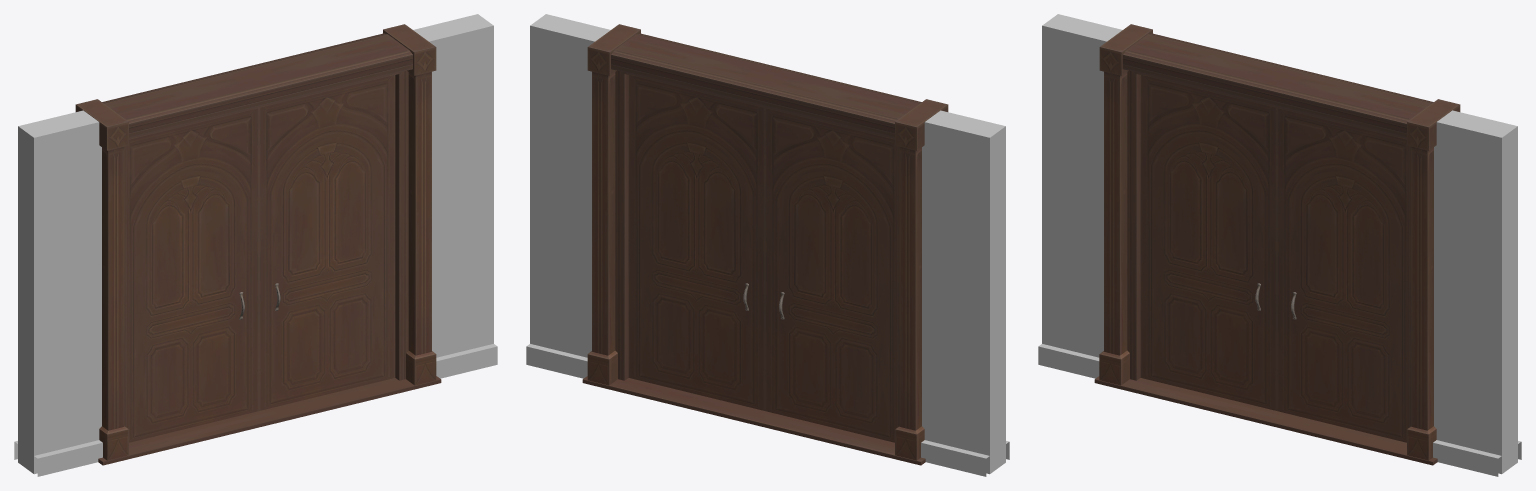
The model's file is Homeworld_Interior_Md_Room_Door_02_Vo.fbx.
3 views of the same model, side by side, from view 1: azimuth 30°, elevation 25°; view 2: azimuth 150°, elevation 25°; view 3: azimuth 330°, elevation 25° (orthographic).
Visible parts, largest first — view 1: Homeworld_Interior_Md_Room_Door_02_01_Vo, Homeworld_Interior_Md_Room_Door_02_03_Vo, Homeworld_Interior_Md_Room_Door_02_02_Vo; view 2: Homeworld_Interior_Md_Room_Door_02_01_Vo, Homeworld_Interior_Md_Room_Door_02_03_Vo, Homeworld_Interior_Md_Room_Door_02_02_Vo; view 3: Homeworld_Interior_Md_Room_Door_02_01_Vo, Homeworld_Interior_Md_Room_Door_02_02_Vo, Homeworld_Interior_Md_Room_Door_02_03_Vo.
Part boxes in pixels (bbox=[...]): Homeworld_Interior_Md_Room_Door_02_01_Vo: bbox=[14, 14, 497, 476]; Homeworld_Interior_Md_Room_Door_02_03_Vo: bbox=[259, 75, 395, 410]; Homeworld_Interior_Md_Room_Door_02_02_Vo: bbox=[126, 108, 258, 442]; Homeworld_Interior_Md_Room_Door_02_01_Vo: bbox=[526, 14, 1009, 476]; Homeworld_Interior_Md_Room_Door_02_03_Vo: bbox=[628, 75, 764, 410]; Homeworld_Interior_Md_Room_Door_02_02_Vo: bbox=[765, 108, 897, 442]; Homeworld_Interior_Md_Room_Door_02_01_Vo: bbox=[1038, 14, 1521, 476]; Homeworld_Interior_Md_Room_Door_02_02_Vo: bbox=[1140, 75, 1276, 410]; Homeworld_Interior_Md_Room_Door_02_03_Vo: bbox=[1277, 108, 1409, 442].
Bounding box in the file's own units: 5 × 3.5 × 0.61.
